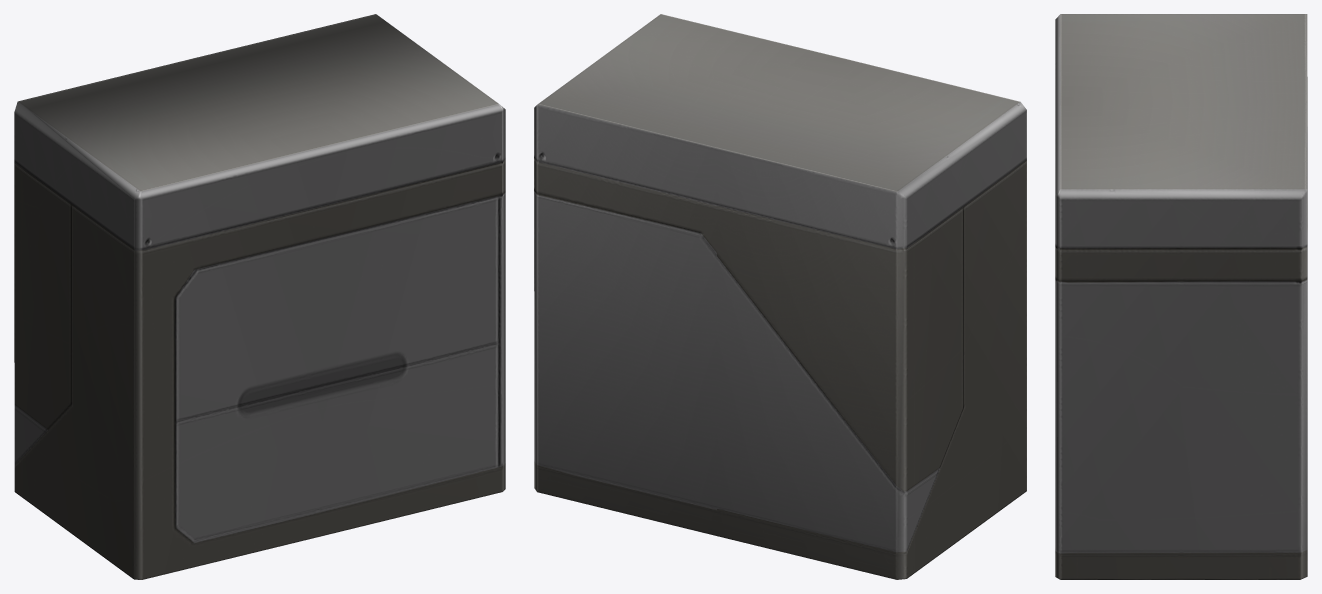
Rendered from Drawer3.fbx.
3 views of the same model, side by side, from view 1: azimuth 30°, elevation 25°; view 2: azimuth 150°, elevation 25°; view 3: azimuth 270°, elevation 25° (orthographic).
Visible parts, largest first — view 1: lowdra3:RetopoGroup1; view 2: lowdra3:RetopoGroup1; view 3: lowdra3:RetopoGroup1.
Part boxes in pixels (left/top/right/bottom): lowdra3:RetopoGroup1: left=14, top=14, right=505, bottom=579; lowdra3:RetopoGroup1: left=534, top=14, right=1026, bottom=579; lowdra3:RetopoGroup1: left=1055, top=14, right=1307, bottom=579.
Size of the model in its own units: 70.08 by 69.75 by 41.15.
